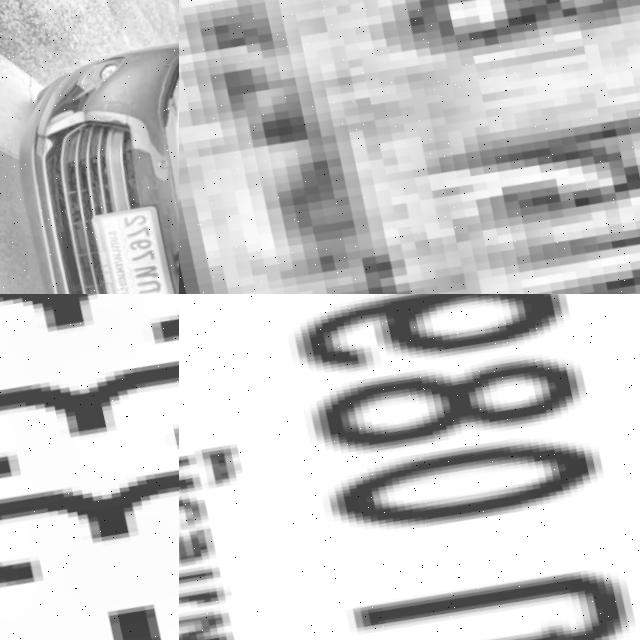license-plate: (179, 294, 640, 640), (179, 0, 640, 294), (0, 294, 179, 640), (83, 196, 179, 294)
